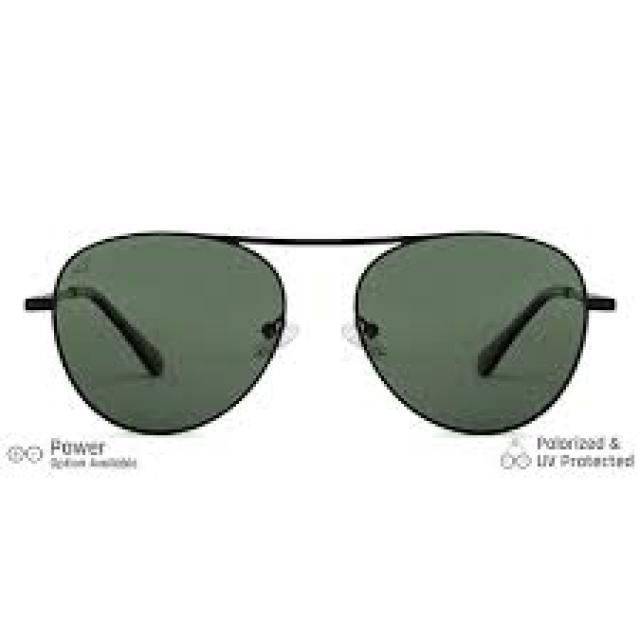sunglasses: (24, 222, 593, 432)
